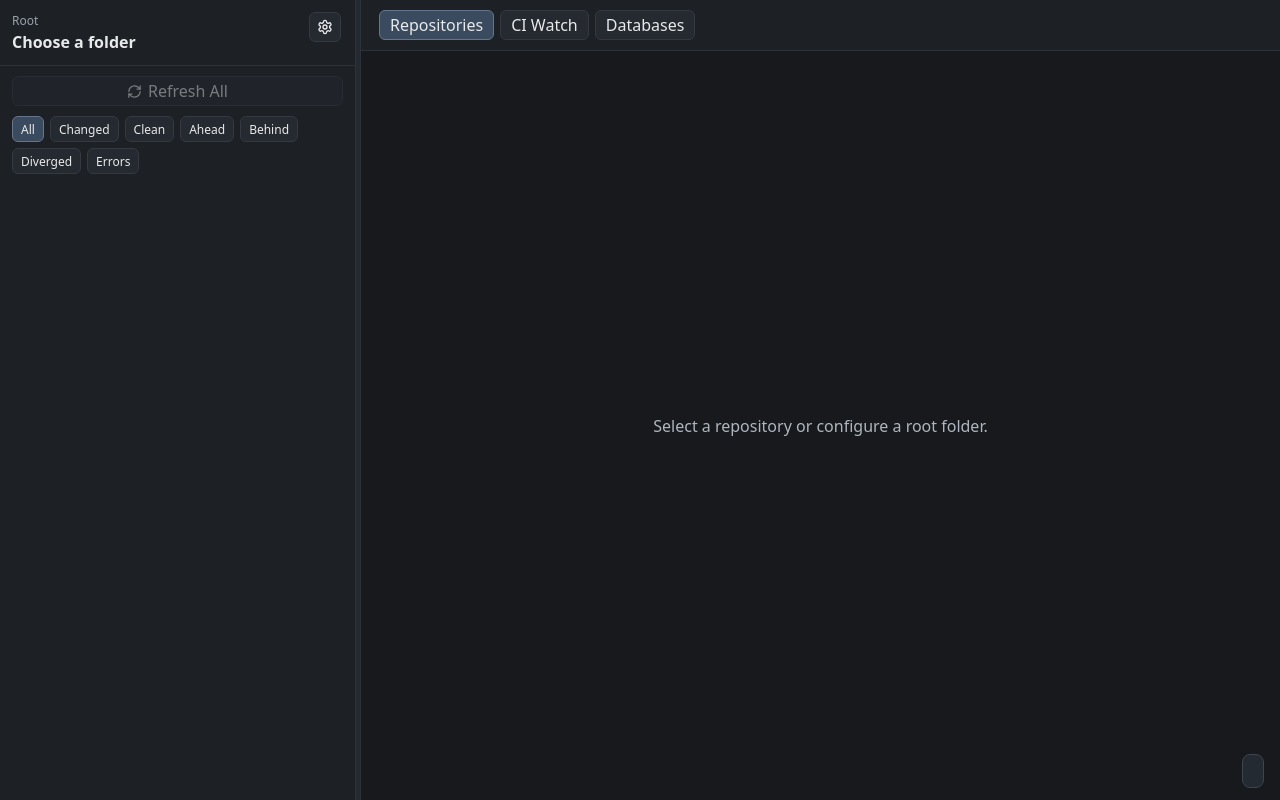
Scenario: Database view › links the main Databases tab and keeps Git and CI usable after a database failure
Click the tab "Databases": (645, 25) [595, 10, 695, 40]
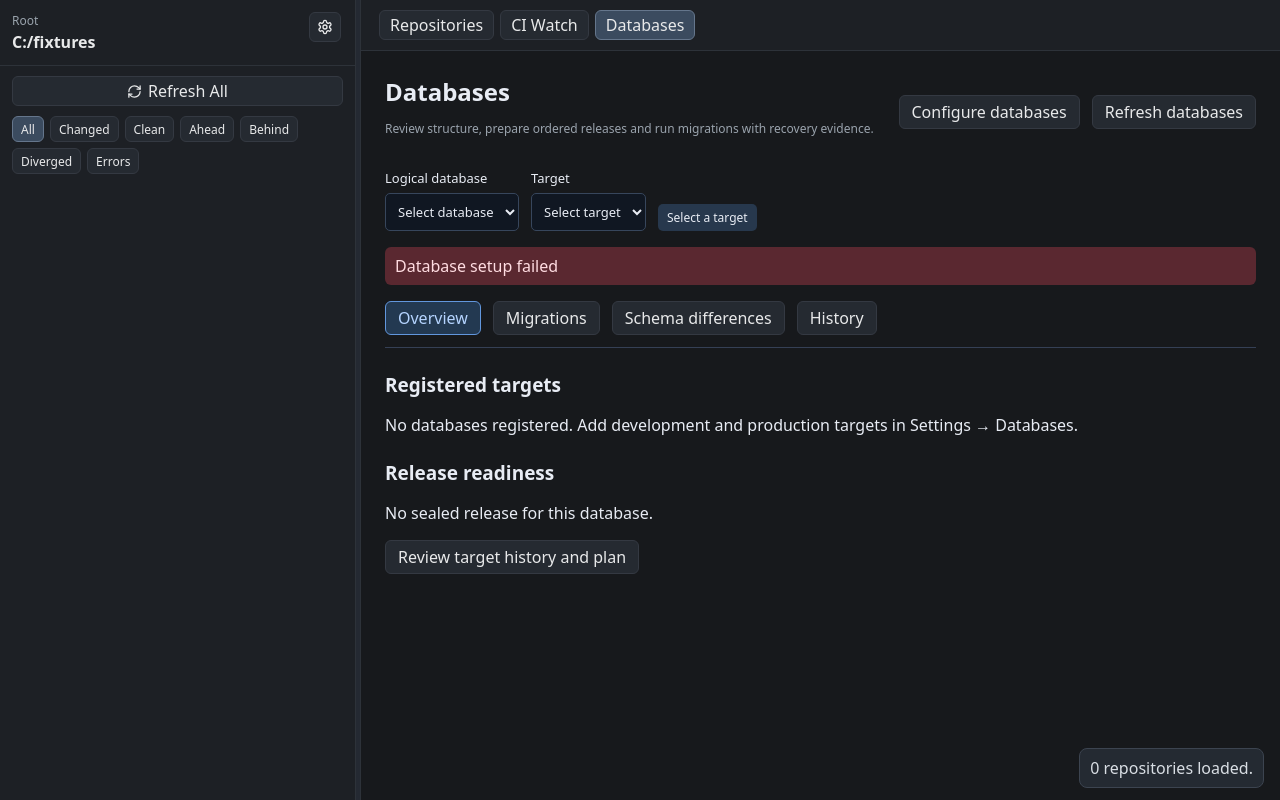
Check: the message reads "Database setup failed", box [395, 255, 558, 277]
Click the tab "Repositories": (437, 25) [379, 10, 494, 40]
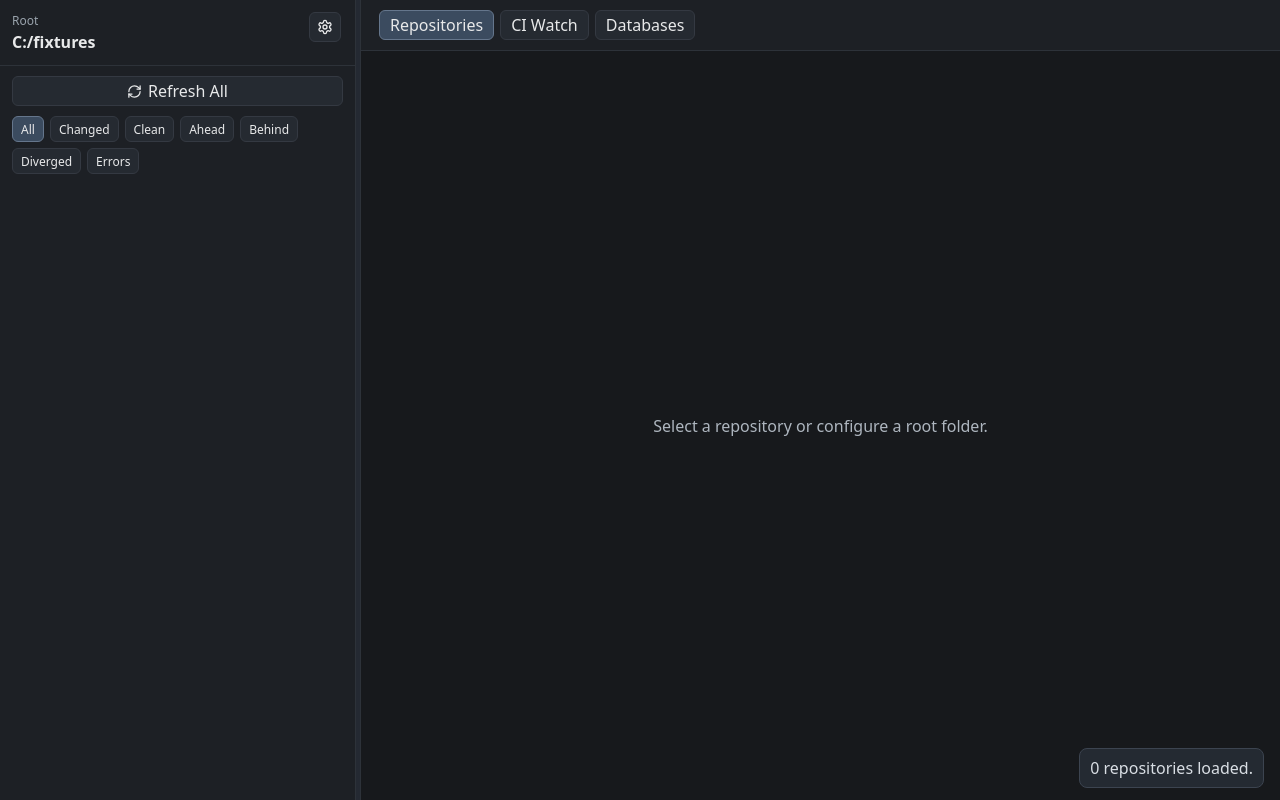
Check: the panel named "Repositories" is shown
Click the tab "CI Watch": (544, 25) [500, 10, 589, 40]
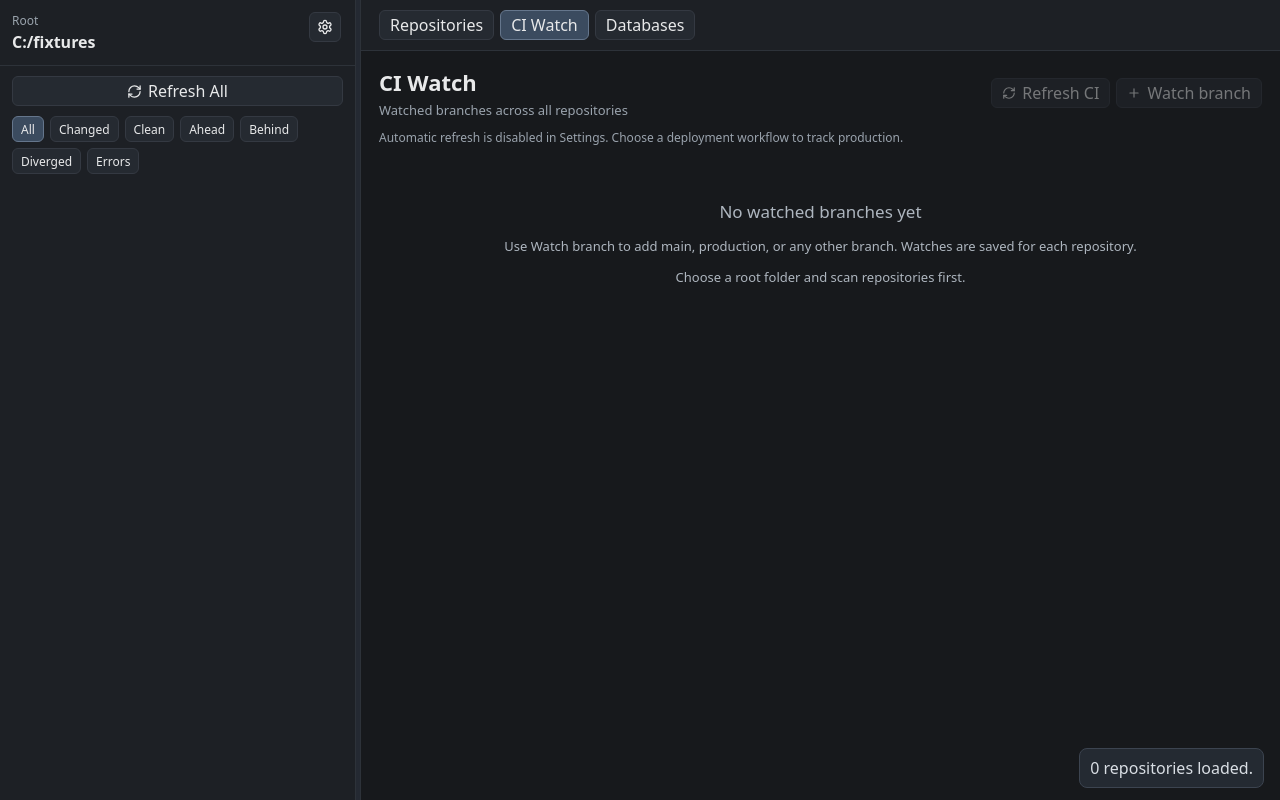
Check: the panel "CI Watch" is shown, box [379, 67, 1262, 286]
